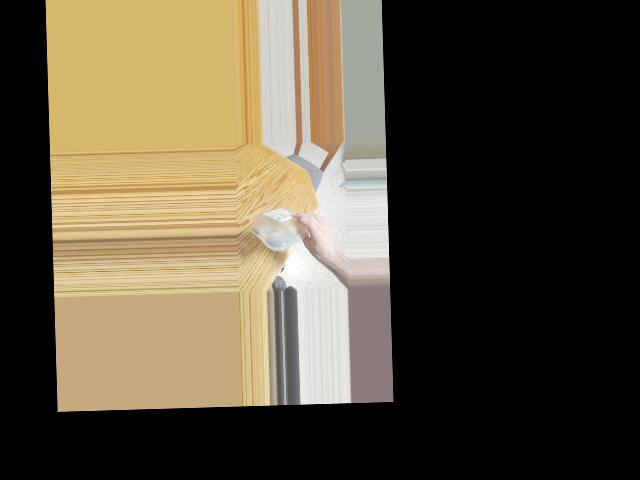cheese: (254, 208, 319, 246)
